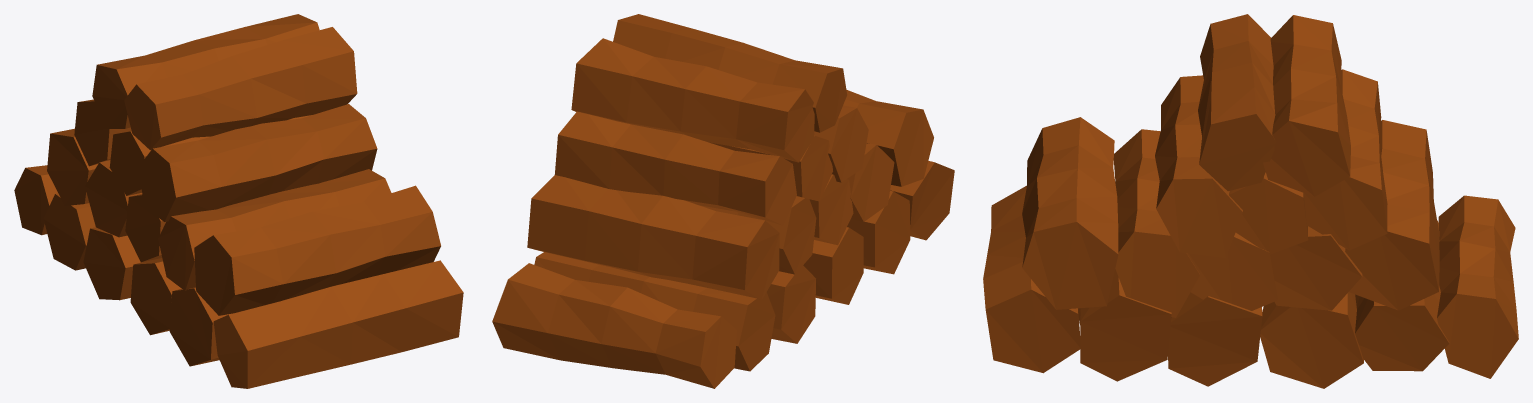
The model's file is WoodStack3.fbx.
3 views of the same model, side by side, from view 1: azimuth 30°, elevation 25°; view 2: azimuth 150°, elevation 25°; view 3: azimuth 270°, elevation 25° (orthographic). The views are drawn at different scales.
Visible parts, largest first — view 1: WoodStack3; view 2: WoodStack3; view 3: WoodStack3.
Boxes of the visible parts, x1,y1,x2,y2 form: WoodStack3: (14,14,463,388); WoodStack3: (492,14,954,388); WoodStack3: (983,14,1518,388).
Bounding box in the file's own units: 121 × 135 × 241.
